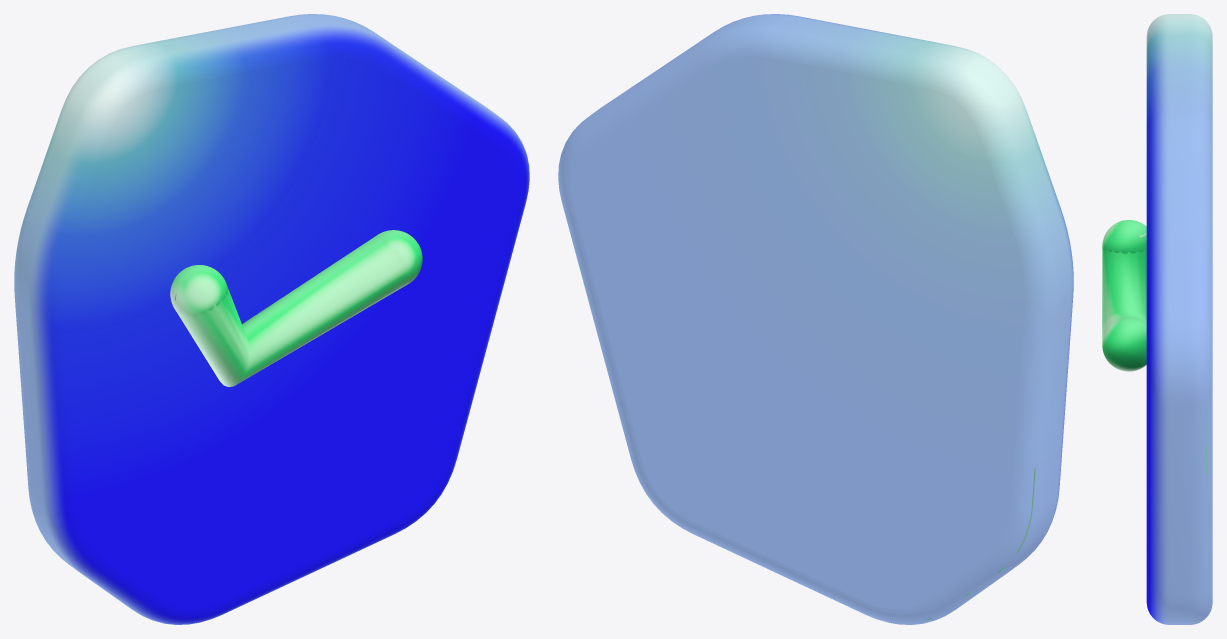
File: shield.glb
3 renders of one model, left to right at view 1: azimuth 30°, elevation 25°; view 2: azimuth 150°, elevation 25°; view 3: azimuth 270°, elevation 25°, orthographic. The views are drawn at different scales.
Visible parts, largest first — view 1: curve.004; view 2: curve.004; view 3: curve.004.
Boxes of the visible parts, x1,y1,x2,y2 form: curve.004: (14,14,529,624); curve.004: (558,14,1073,624); curve.004: (1102,14,1212,624).
Size of the model in its own units: 2.08 by 2.3 by 0.435.
1 material, 1 textured.
